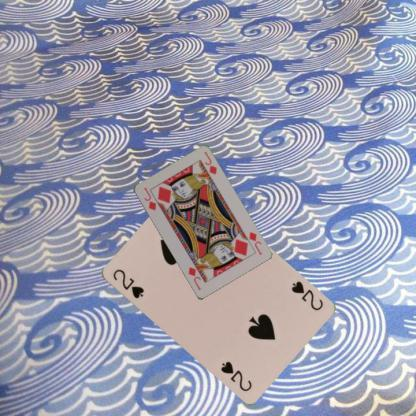2s: (288, 278, 324, 312), (110, 266, 145, 300)
Jd: (246, 229, 263, 256), (141, 184, 157, 212)
